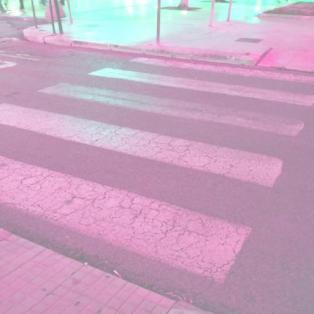Paso de Cebra: (29, 65, 314, 140)
